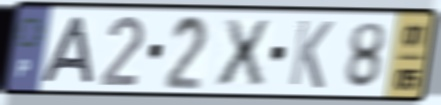2: (161, 13, 212, 92), (97, 13, 147, 88)
8: (343, 20, 388, 90)
A: (39, 14, 96, 86)
K: (286, 17, 336, 92)
X: (214, 16, 272, 89)
